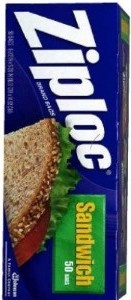grozi_28: (2, 2, 129, 299)
